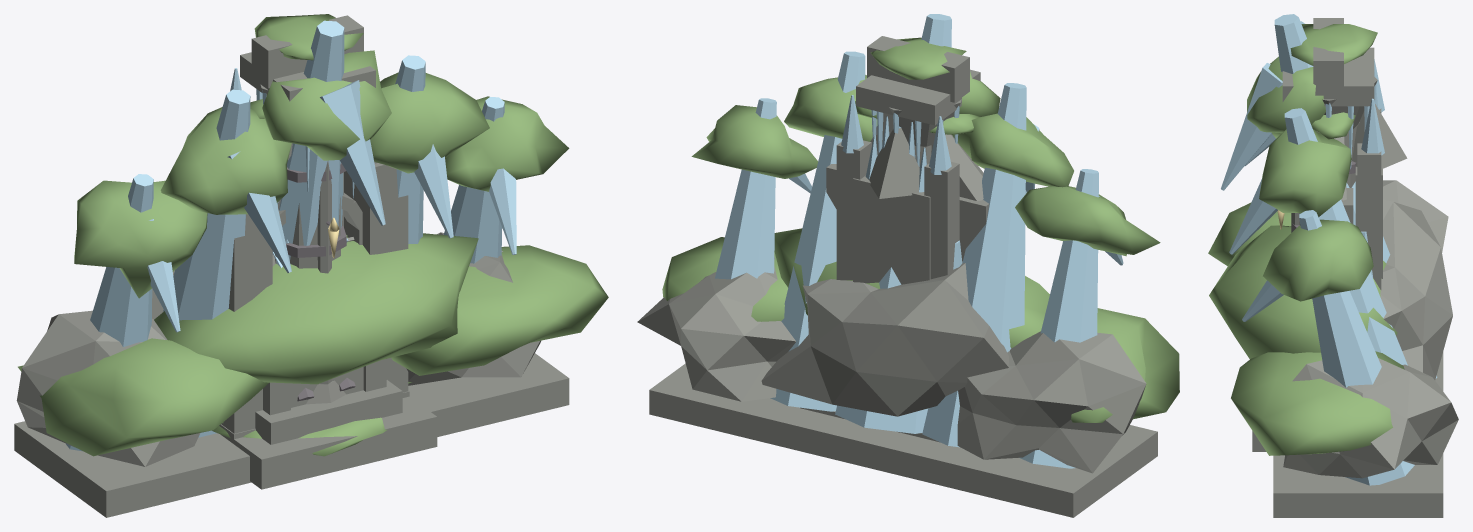
The model's file is FrozenF20Kit.fbx.
3 renders of one model, left to right at view 1: azimuth 30°, elevation 25°; view 2: azimuth 150°, elevation 25°; view 3: azimuth 270°, elevation 25°, orthographic. The views are drawn at different scales.
Visible parts, largest first — view 1: FrozenAvalancheWave__MOSS, FrozenAvalancheWave__CRYSTAL, FrozenAvalancheWave__STONE, ThroneOfIcicles__STONE, ShatteredRoseWindow__STONE, GothicPillarColonnade__STONE, GothicPillarColonnade__MOSS, ThroneOfIcicles__MOSS, GothicPillarColonnade__METAL; view 2: FrozenAvalancheWave__STONE, FrozenAvalancheWave__MOSS, FrozenAvalancheWave__CRYSTAL, ThroneOfIcicles__STONE, GothicPillarColonnade__STONE, ShatteredRoseWindow__STONE, ThroneOfIcicles__CRYSTAL, GothicPillarColonnade__MOSS, GothicPillarColonnade__CRYSTAL, ShatteredRoseWindow__MOSS; view 3: FrozenAvalancheWave__MOSS, FrozenAvalancheWave__STONE, FrozenAvalancheWave__CRYSTAL, GothicPillarColonnade__STONE, ThroneOfIcicles__STONE, GothicPillarColonnade__MOSS, ThroneOfIcicles__CRYSTAL, ShatteredRoseWindow__MOSS, GothicPillarColonnade__CRYSTAL, ShatteredRoseWindow__STONE.
Boxes of the visible parts, <box> form: FrozenAvalancheWave__MOSS: <box>18,50,608,456</box>; FrozenAvalancheWave__CRYSTAL: <box>65,20,516,451</box>; FrozenAvalancheWave__STONE: <box>14,232,569,517</box>; ThroneOfIcicles__STONE: <box>234,359,437,489</box>; ShatteredRoseWindow__STONE: <box>219,143,409,443</box>; GothicPillarColonnade__STONE: <box>240,15,375,404</box>; GothicPillarColonnade__MOSS: <box>254,14,363,60</box>; ThroneOfIcicles__MOSS: <box>212,417,387,456</box>; GothicPillarColonnade__METAL: <box>286,163,346,257</box>; FrozenAvalancheWave__STONE: <box>637,257,1157,517</box>; FrozenAvalancheWave__MOSS: <box>662,71,1179,422</box>; FrozenAvalancheWave__CRYSTAL: <box>715,14,1123,468</box>; ThroneOfIcicles__STONE: <box>800,128,959,442</box>; GothicPillarColonnade__STONE: <box>856,36,980,167</box>; ShatteredRoseWindow__STONE: <box>826,126,989,261</box>; ThroneOfIcicles__CRYSTAL: <box>841,95,962,269</box>; GothicPillarColonnade__MOSS: <box>870,37,966,79</box>; GothicPillarColonnade__CRYSTAL: <box>871,106,959,166</box>; ShatteredRoseWindow__MOSS: <box>855,101,979,134</box>; FrozenAvalancheWave__MOSS: <box>1208,56,1404,455</box>; FrozenAvalancheWave__STONE: <box>1273,180,1458,517</box>; FrozenAvalancheWave__CRYSTAL: <box>1221,14,1437,485</box>; GothicPillarColonnade__STONE: <box>1282,18,1377,232</box>; ThroneOfIcicles__STONE: <box>1252,104,1407,451</box>; GothicPillarColonnade__MOSS: <box>1290,24,1377,65</box>; ThroneOfIcicles__CRYSTAL: <box>1361,59,1384,277</box>; ShatteredRoseWindow__MOSS: <box>1311,112,1355,139</box>; GothicPillarColonnade__CRYSTAL: <box>1325,83,1376,169</box>; ShatteredRoseWindow__STONE: <box>1317,131,1353,223</box>.
Bounding box in the file's own units: 68.34 × 51.54 × 29.55.
